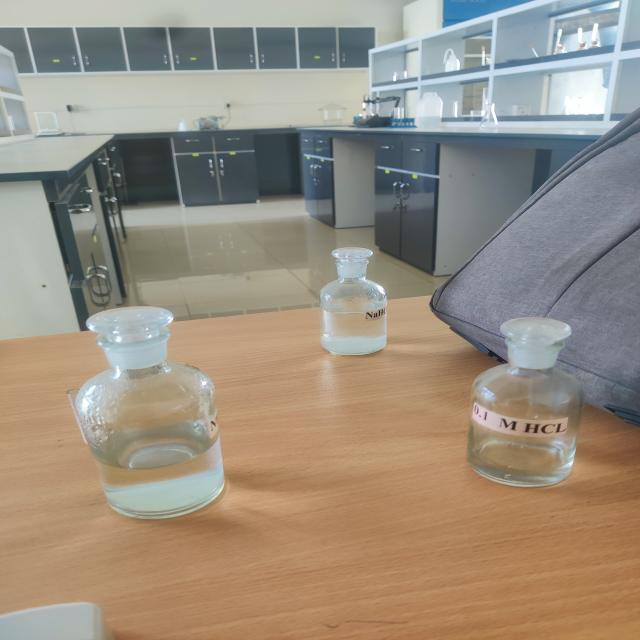Reagent_Bottle: (52, 288, 264, 548), (444, 274, 613, 510), (295, 226, 415, 375)
